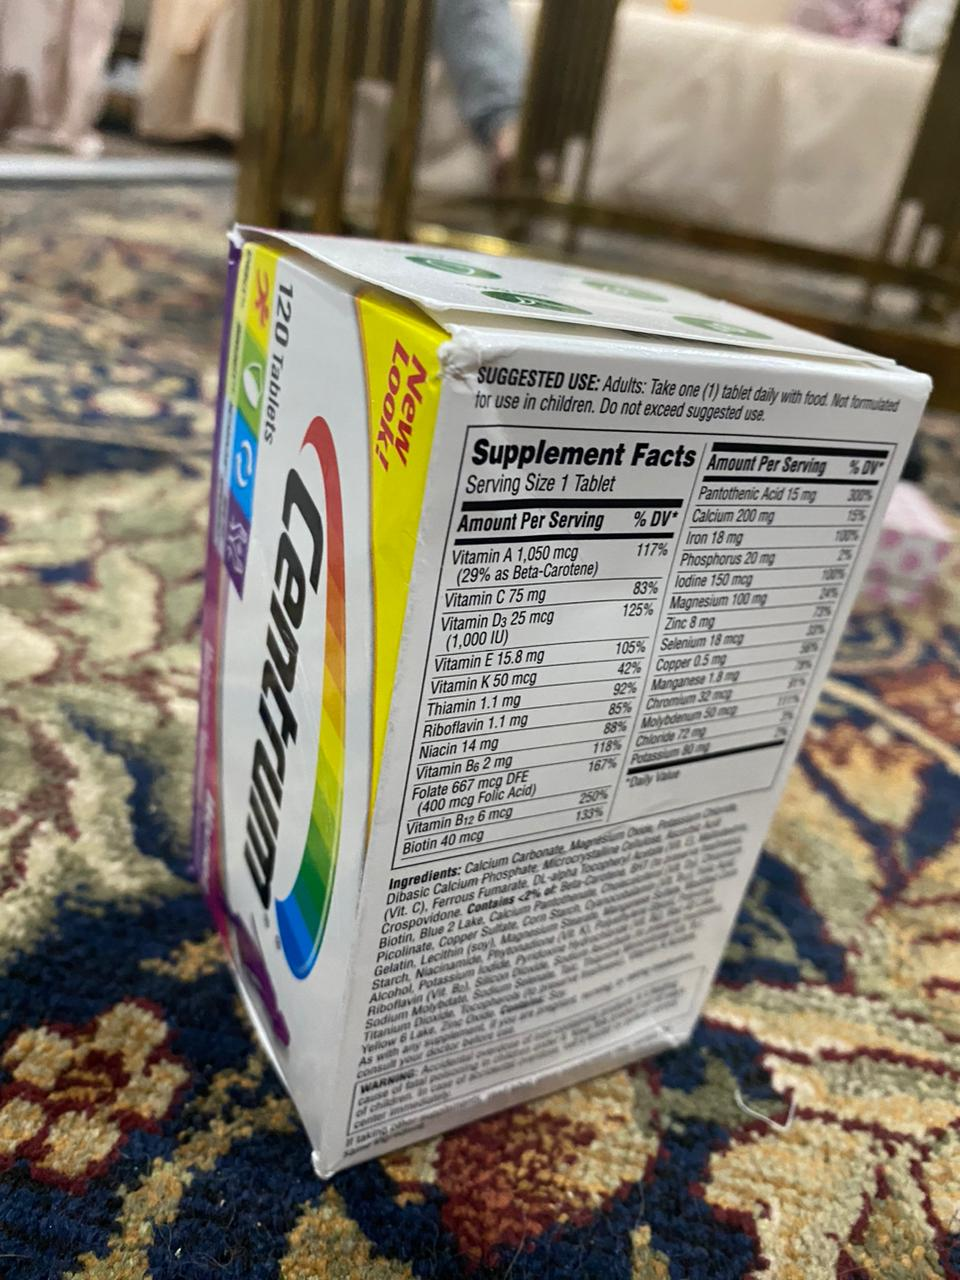Centrum: (187, 222, 935, 1181)
